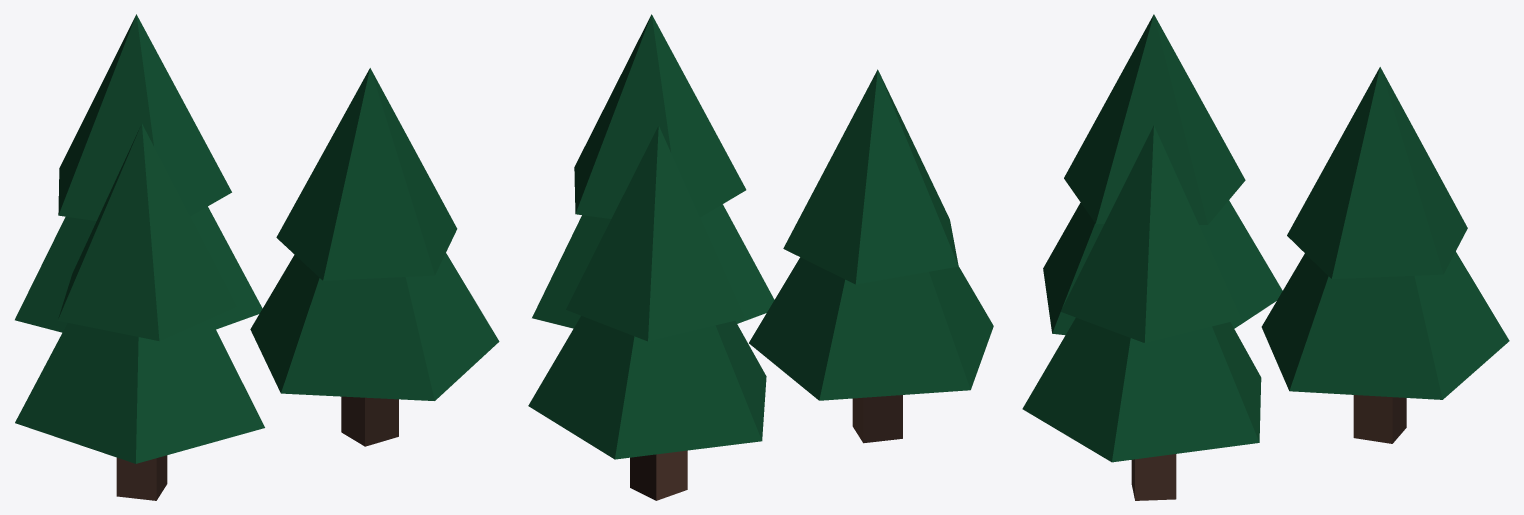
The model's file is TB_Env_TreeDB_A_Med.FBX.
The picture shows the model from 3 angles, left to right: view 1: azimuth 30°, elevation 25°; view 2: azimuth 150°, elevation 25°; view 3: azimuth 270°, elevation 25°; orthographic projection.
Parts seen in each view (by area): view 1: TB_Env_TreeDB_A_Med; view 2: TB_Env_TreeDB_A_Med; view 3: TB_Env_TreeDB_A_Med.
Boxes of the visible parts, x1,y1,x2,y2 form: TB_Env_TreeDB_A_Med: (15,14,499,500); TB_Env_TreeDB_A_Med: (528,14,993,500); TB_Env_TreeDB_A_Med: (1022,14,1509,500).
Bounding box in the file's own units: 6.35 × 4.98 × 6.
